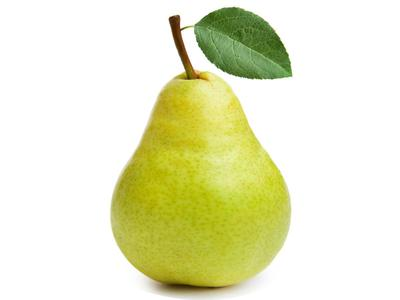pear: (0, 0, 400, 300)
